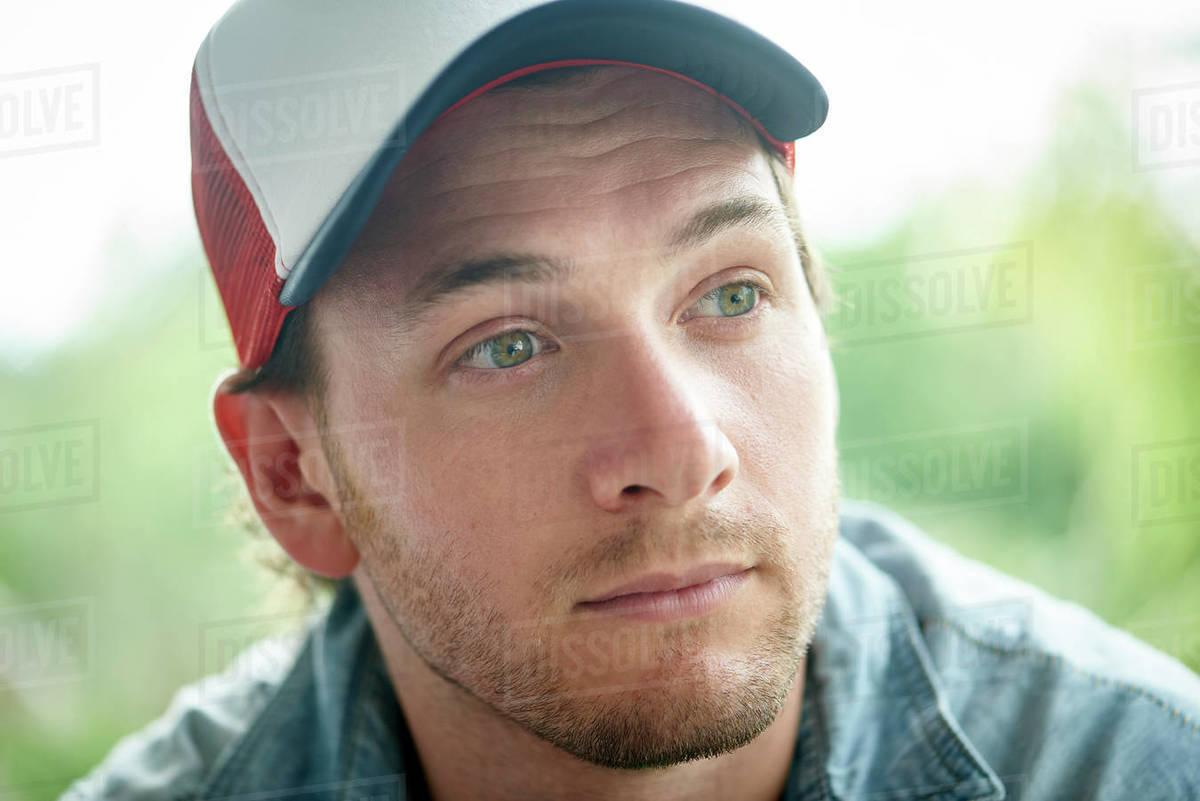cap: (150, 2, 868, 366)
